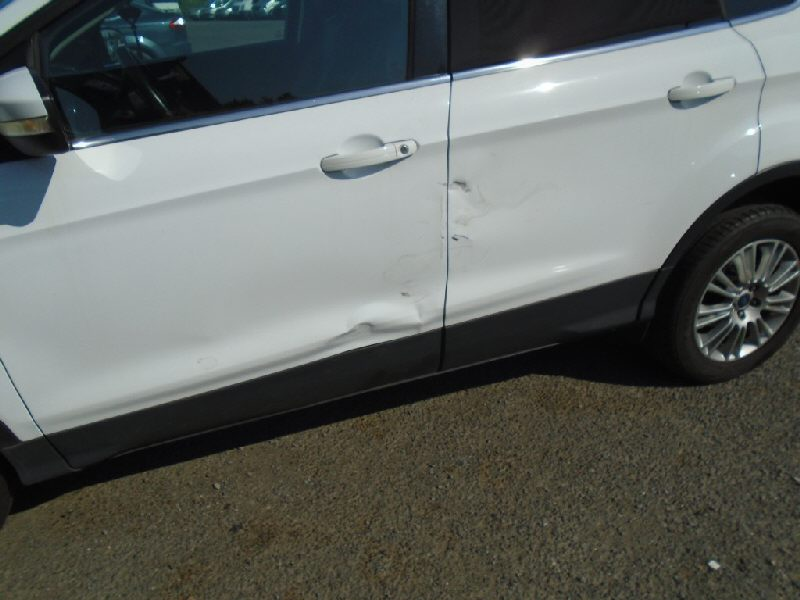front door: (1, 1, 462, 405)
